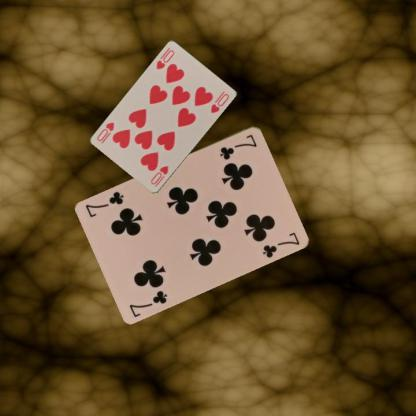10h: (148, 164, 170, 188), (154, 47, 176, 71)
7c: (127, 288, 168, 318), (218, 131, 258, 161)
